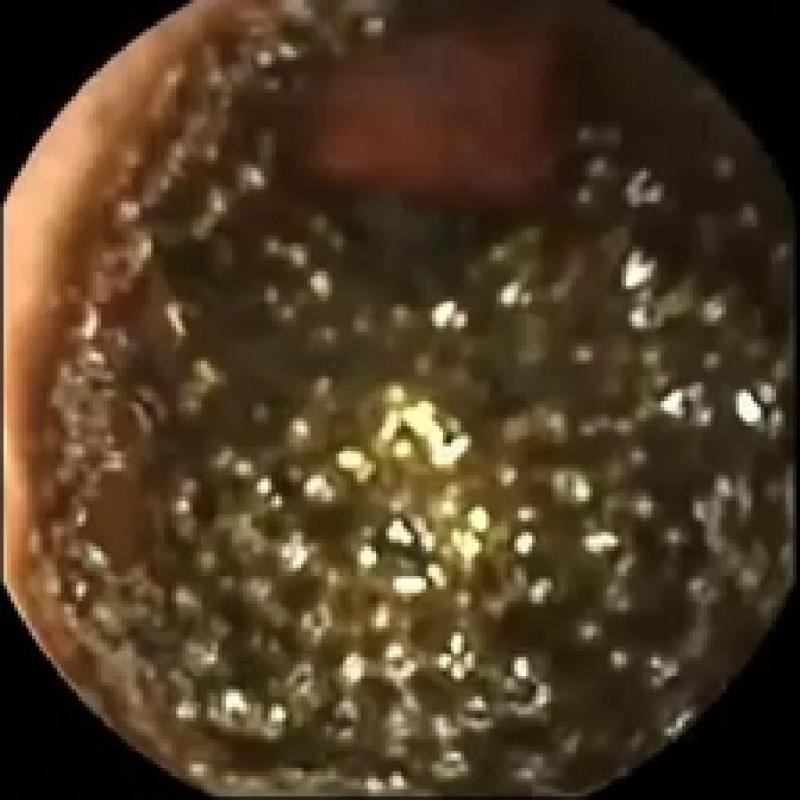bleeding: (286, 28, 564, 193)
